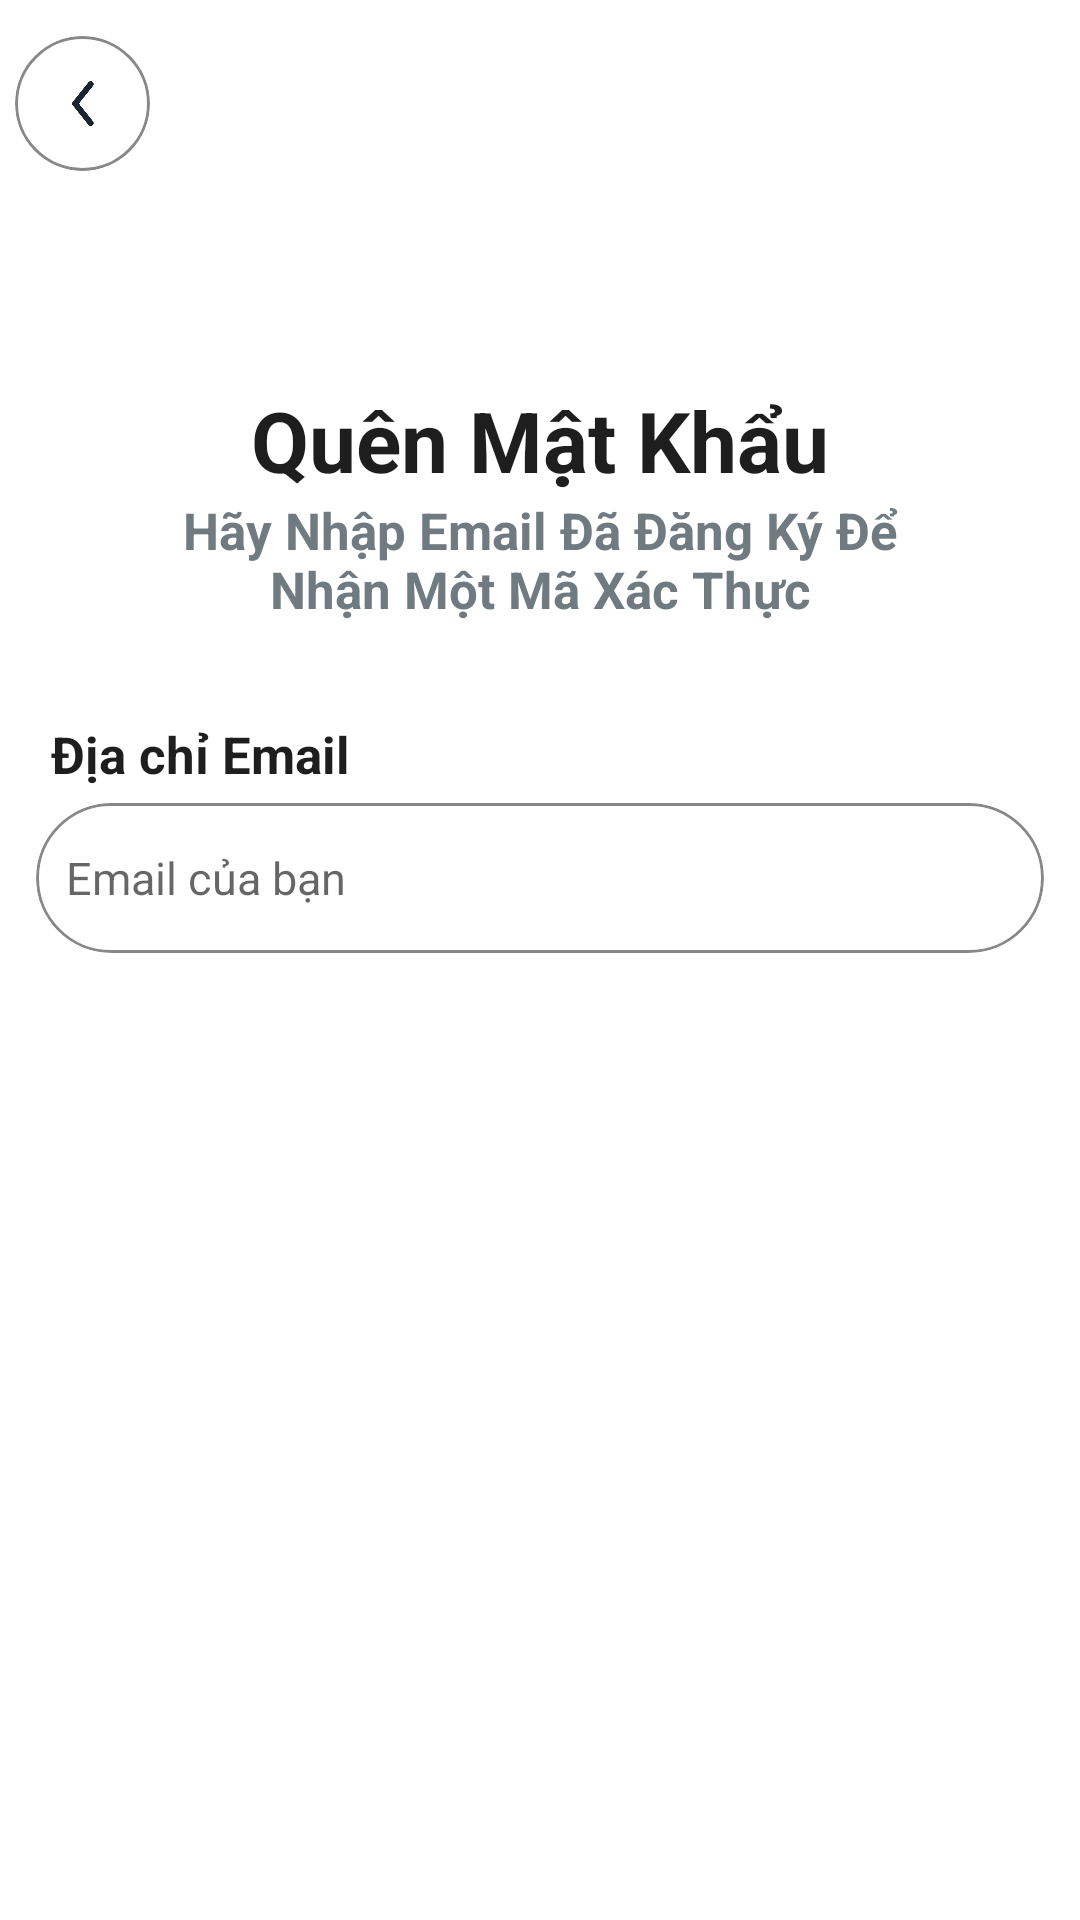

Where icons sit on this 1080px×1920px app screen, as {"x1": x1, "y1": y1, "x2": x2, "y2": y2}:
angle left: {"x1": 15, "y1": 36, "x2": 150, "y2": 171}
